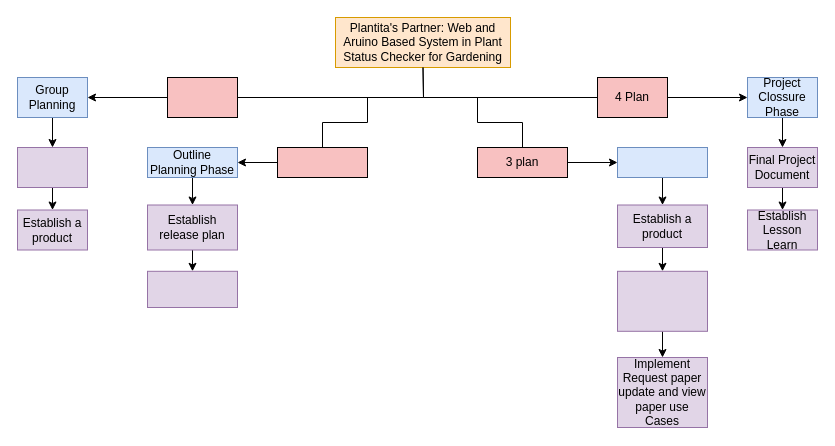
The diagram is 835 pixels wide and 446 high, and some of its shapes have lost their labels. The box of each missing label's shape, as (x1, y1, x2, y2) in pixels:
1 Plan: (166, 76, 238, 118)
2 plan: (276, 146, 368, 178)
Cycle Phase: (616, 146, 708, 178)
Design the product: (146, 270, 238, 308)
Establish a general objectives: (16, 146, 88, 188)
Implement Submit paper and view paper use Cases: (616, 270, 708, 331)
